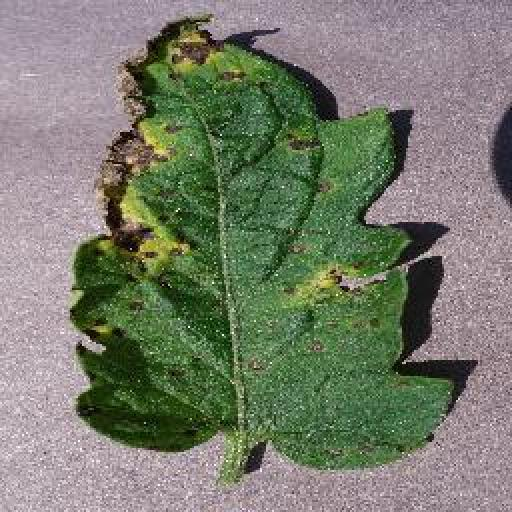Septoria: (67, 18, 454, 470)
